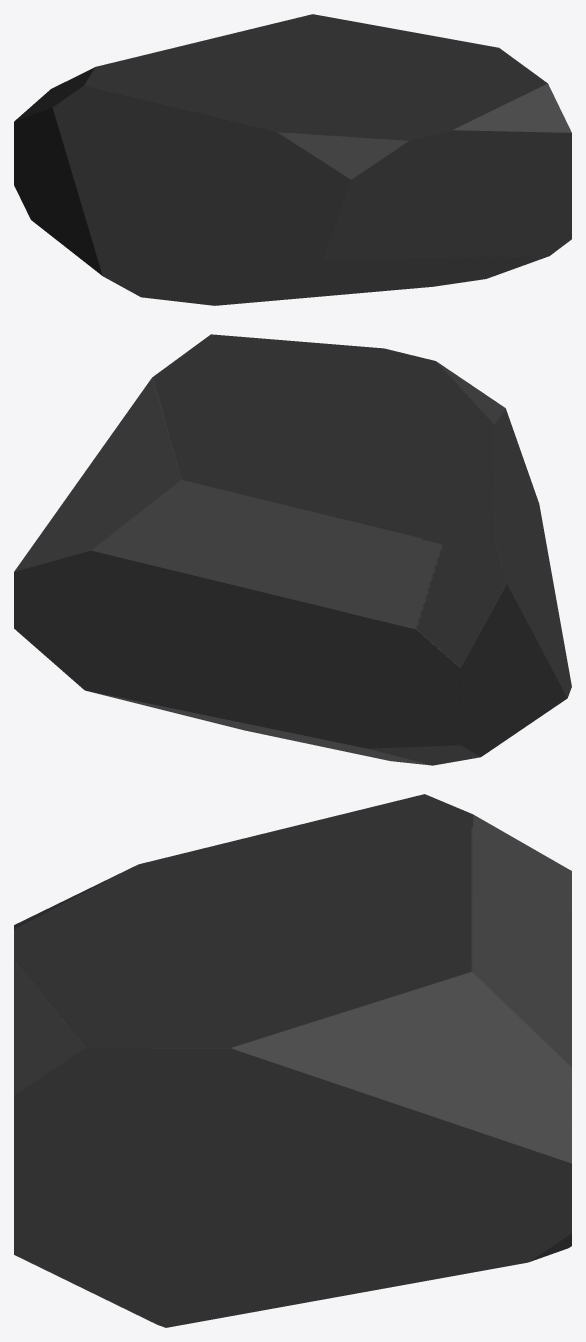
Rendered from kamen5.fbx.
3 views of the same model, one above another, from view 1: azimuth 30°, elevation 25°; view 2: azimuth 150°, elevation 25°; view 3: azimuth 270°, elevation 25° (orthographic). The views are drawn at different scales.
Parts seen in each view (by area): view 1: Cube.004; view 2: Cube.004; view 3: Cube.004.
Part boxes in pixels (x1=…): Cube.004: x1=14, y1=14, x2=571, y2=305; Cube.004: x1=14, y1=334, x2=571, y2=765; Cube.004: x1=14, y1=794, x2=571, y2=1327.
Bounding box in the file's own units: 228 × 126 × 200.
1 material, 1 textured.
